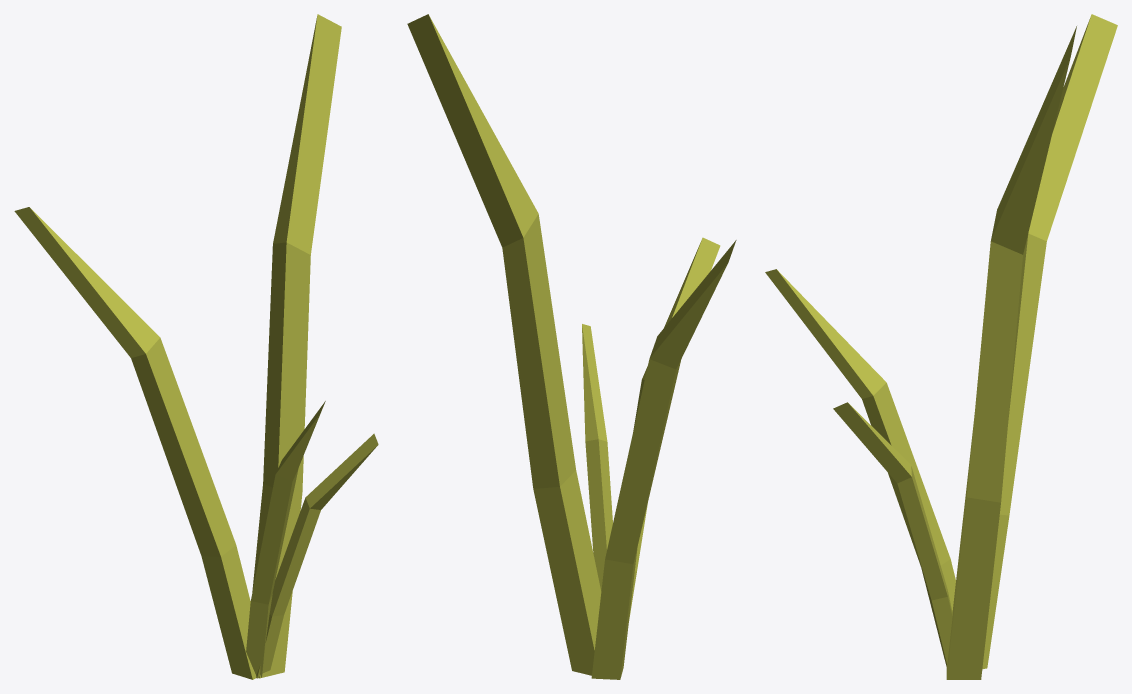
Rendered from Grass_2_Yellow.fbx.
The picture shows the model from 3 angles, left to right: view 1: azimuth 30°, elevation 25°; view 2: azimuth 150°, elevation 25°; view 3: azimuth 270°, elevation 25°; orthographic projection. The views are drawn at different scales.
Parts seen in each view (by area): view 1: Grass_2_Yellow; view 2: Grass_2_Yellow; view 3: Grass_2_Yellow.
Part boxes in pixels (x1,y1,x2,y2): Grass_2_Yellow: [14, 14, 378, 679]; Grass_2_Yellow: [407, 14, 736, 679]; Grass_2_Yellow: [765, 14, 1117, 679].
Bounding box in the file's own units: 9.74 × 18.04 × 8.18.
